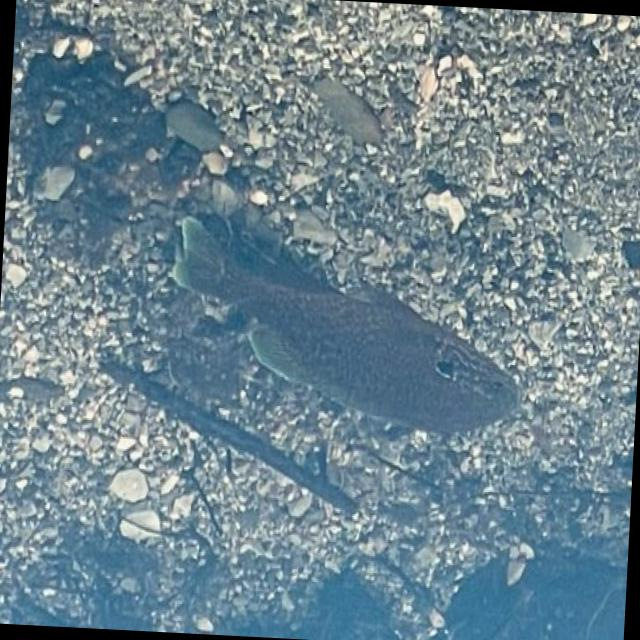Gunes Levregi: (166, 204, 539, 446)
